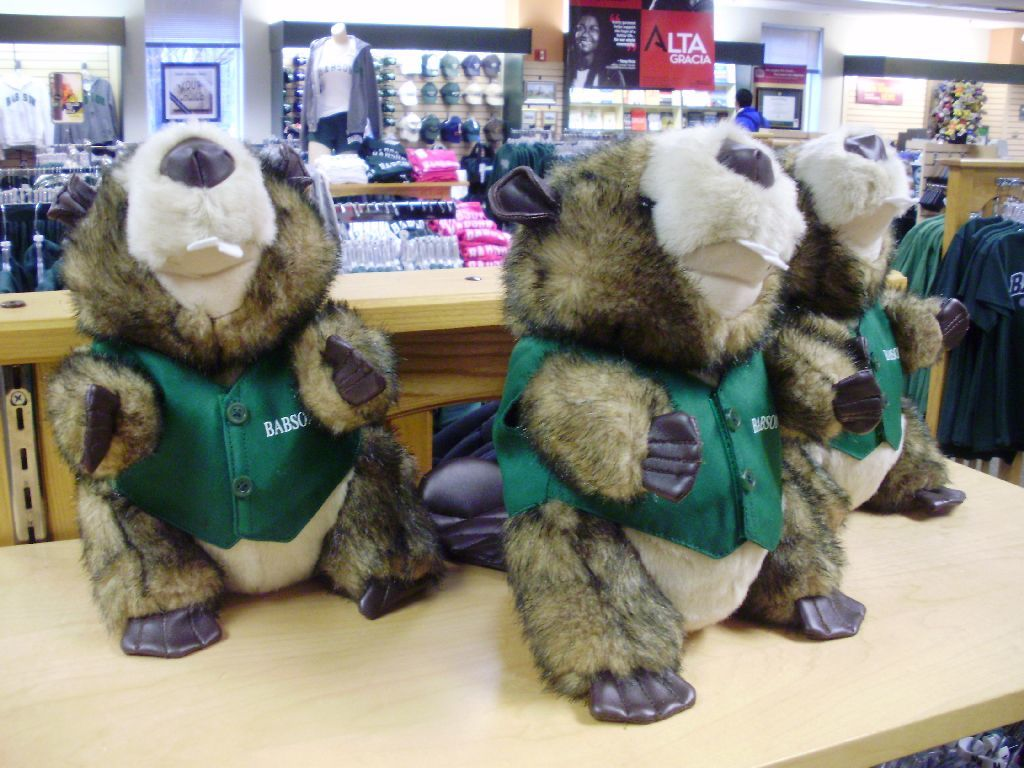Person: (733, 87, 770, 132)
